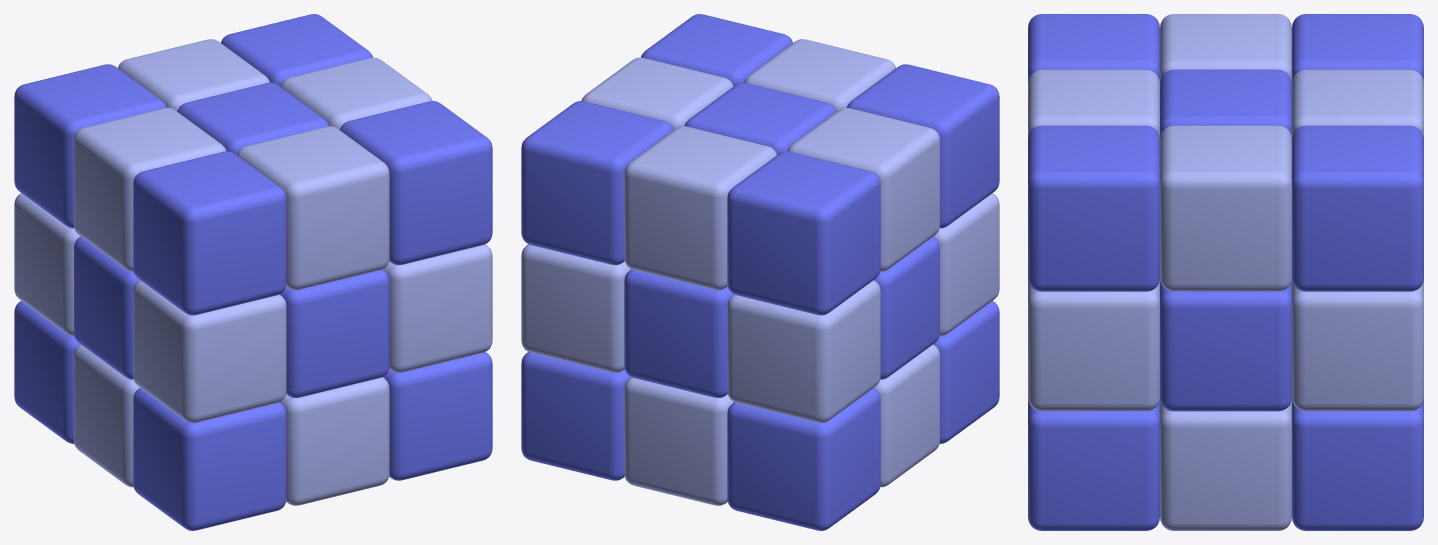
File: cube-loading-animated-3d-icon-1017264616624.glb
3 views of the same model, side by side, from view 1: azimuth 30°, elevation 25°; view 2: azimuth 150°, elevation 25°; view 3: azimuth 270°, elevation 25° (orthographic). The views are drawn at different scales.
Visible parts, largest first — view 1: Cube, Cube.009, Cube.018, Cube.001, Cube.002, Cube.006, Cube.003, Cube.019, Cube.010, Cube.011, Cube.020, Cube.015 (+7 smaller); view 2: Cube.006, Cube.015, Cube.024, Cube.007, Cube.008, Cube, Cube.003, Cube.017, Cube.026, Cube.025, Cube.016, Cube.009 (+7 smaller); view 3: Cube.002, Cube.005, Cube.008, Cube.014, Cube.011, Cube.017, Cube.023, Cube.020, Cube.026, Cube.001, Cube.004, Cube.007 (+3 smaller).
Boxes of the visible parts, box(x1,y1,x2,y2) form: Cube: box(133, 151, 286, 315); Cube.009: box(133, 280, 286, 423); Cube.018: box(133, 388, 286, 530); Cube.001: box(237, 126, 389, 290); Cube.002: box(340, 101, 492, 265); Cube.006: box(14, 64, 166, 228); Cube.003: box(74, 107, 226, 271); Cube.019: box(280, 377, 389, 505); Cube.010: box(280, 269, 389, 397); Cube.011: box(383, 244, 492, 372); Cube.020: box(383, 352, 492, 480); Cube.015: box(14, 193, 80, 336); Cube.006: box(727, 151, 880, 315); Cube.015: box(727, 280, 880, 423); Cube.024: box(727, 388, 880, 530); Cube.007: box(624, 126, 776, 290); Cube.008: box(521, 101, 673, 265); Cube: box(847, 64, 999, 228); Cube.003: box(787, 107, 939, 271); Cube.017: box(521, 244, 630, 372); Cube.026: box(521, 352, 630, 480); Cube.025: box(624, 377, 733, 505); Cube.016: box(624, 269, 733, 397); Cube.009: box(933, 193, 999, 336); Cube.002: box(1028, 125, 1159, 291); Cube.005: box(1160, 125, 1291, 291); Cube.008: box(1292, 125, 1423, 291); Cube.014: box(1160, 279, 1291, 411); Cube.011: box(1028, 279, 1159, 411); Cube.017: box(1292, 279, 1423, 411); Cube.023: box(1160, 399, 1291, 530); Cube.020: box(1028, 399, 1159, 530); Cube.026: box(1292, 399, 1423, 530); Cube.001: box(1028, 69, 1159, 137); Cube.004: box(1160, 69, 1291, 137); Cube.007: box(1292, 69, 1423, 137).
Size of the model in its own units: 1.08 by 1.08 by 1.08.
